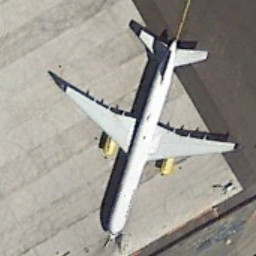Airplane: (51, 18, 242, 249)
